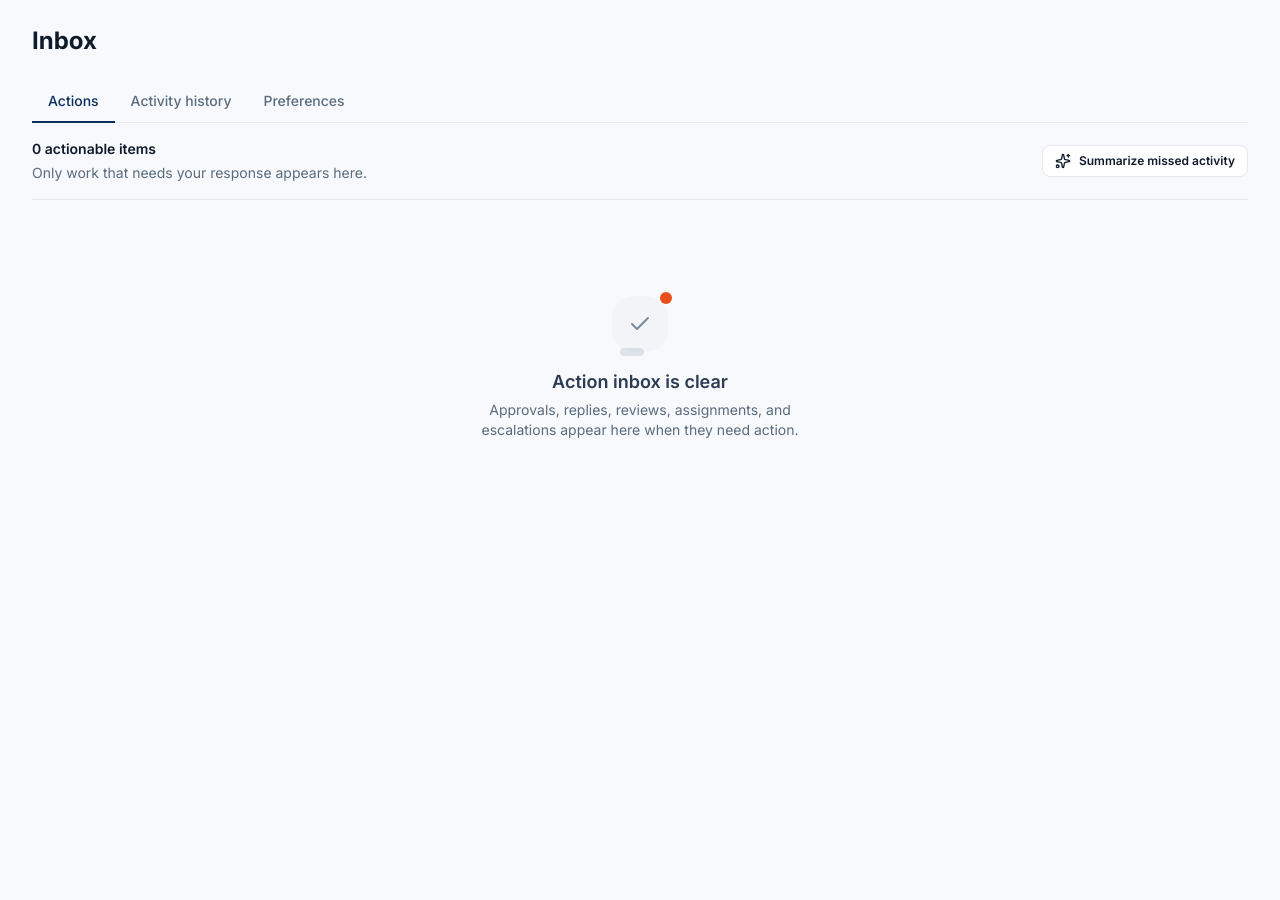
Test: NotificationsView › uses the server preference panel for quiet hours
The image size is (1280, 900).
What coordinates should you click on to do the following:
click the tab "Preferences"
I would click on:
 (304, 102)
Its box is [248,81,361,123].
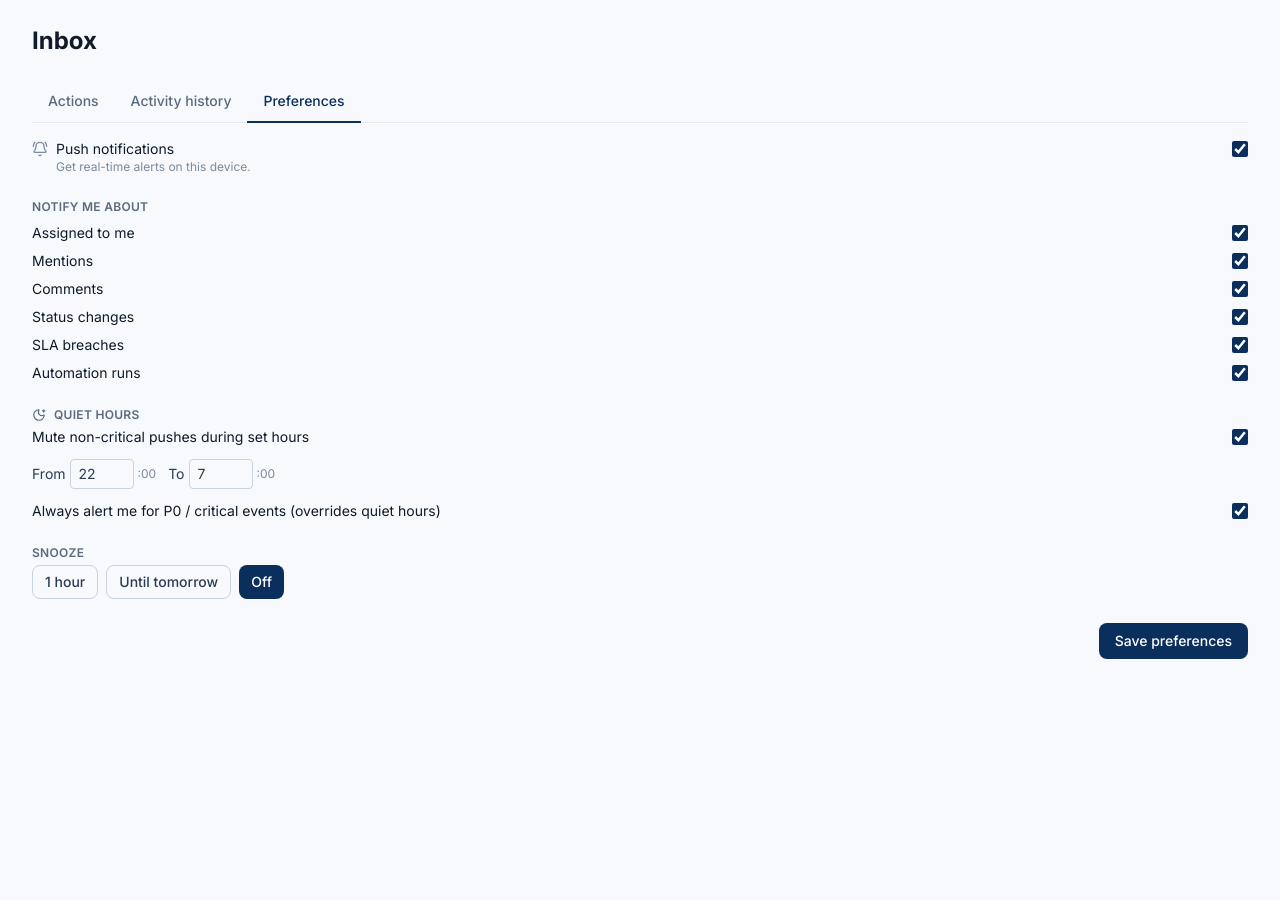
Check: the number field labelled "From" holds "22", box [70,459,134,489]
